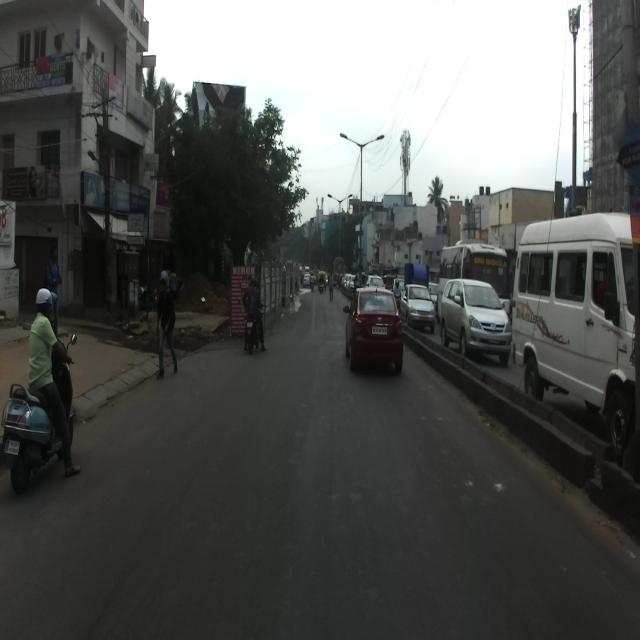Car_Hyundai: (343, 286, 405, 372)
Car_TATA: (399, 283, 435, 333)
Car_Toyota: (438, 279, 512, 363)
bus: (436, 239, 510, 325)
mini-bus: (513, 211, 639, 457)
motorcycle: (242, 296, 266, 354)
scooter: (1, 332, 76, 495)
